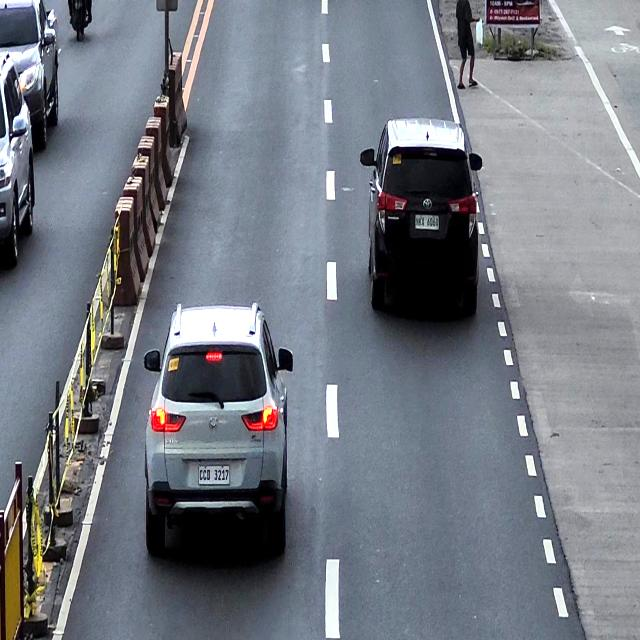Car: (143, 304, 294, 565), (361, 117, 484, 322), (0, 0, 60, 157), (0, 51, 38, 269)
License-Plate: (196, 463, 231, 485), (414, 212, 440, 232)
